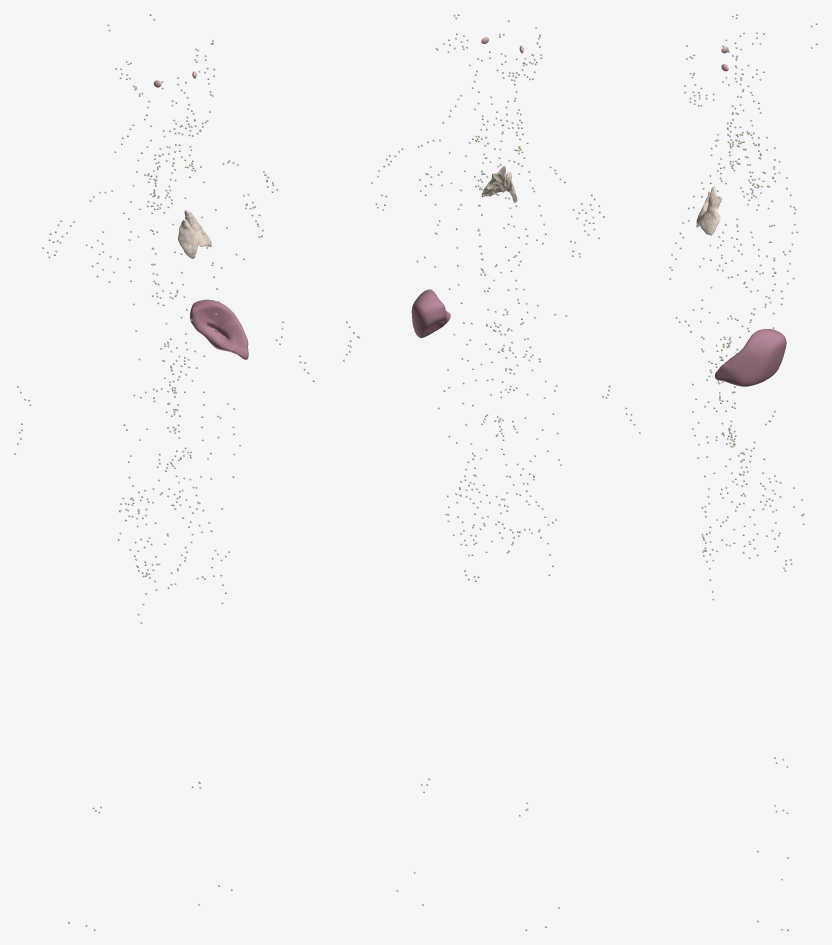
File: lymphoid-v1.glb
3 renders of one model, left to right at view 1: azimuth 30°, elevation 25°; view 2: azimuth 150°, elevation 25°; view 3: azimuth 270°, elevation 25°, orthographic.
Parts seen in each view (by area): view 1: lymph_nodes, spleen, thymus; view 2: lymph_nodes, spleen, thymus; view 3: lymph_nodes, spleen, thymus.
Boxes of the visible parts, x1,y1,x2,y2 form: lymph_nodes: (14,14,314,930); spleen: (190,299,248,359); thymus: (178,209,211,258); lymph_nodes: (343,14,640,930); spleen: (411,289,450,337); thymus: (481,166,517,202); lymph_nodes: (669,14,817,930); spleen: (715,329,786,386); thymus: (696,186,721,235).
Size of the model in its own units: 0.4523 by 1.28 by 0.1964.
